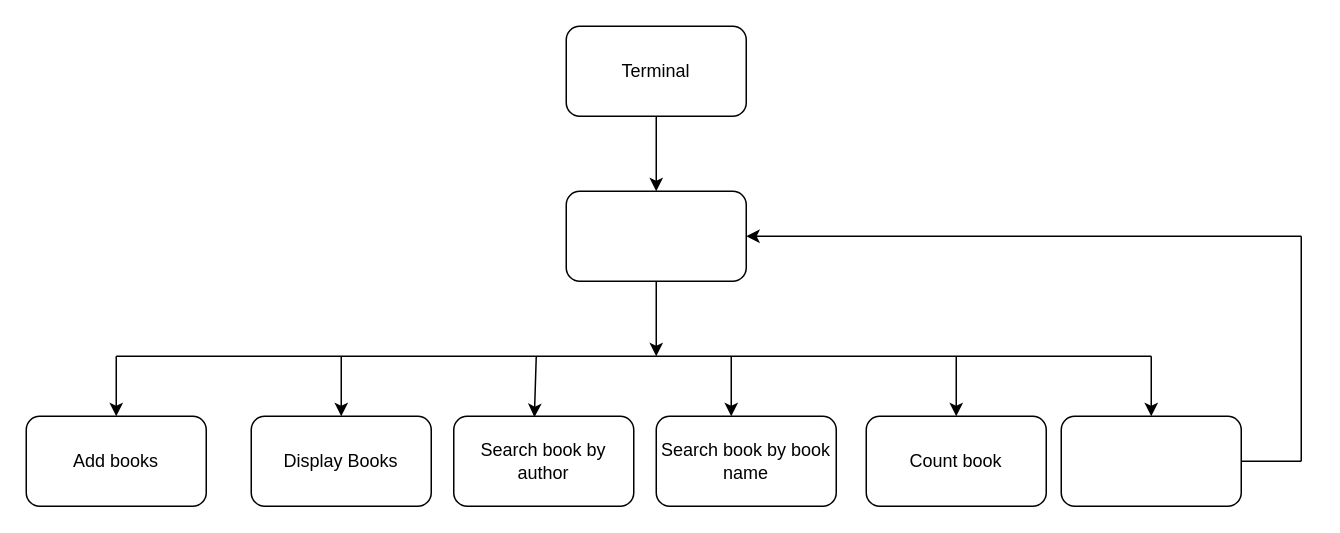
Some shapes in this 1340 by 533 pixel diagram are drawn without their labels. Each missing label, with the centre of its shape:
Exit to menu: (x=1150, y=460)
Menu: (x=655, y=235)
